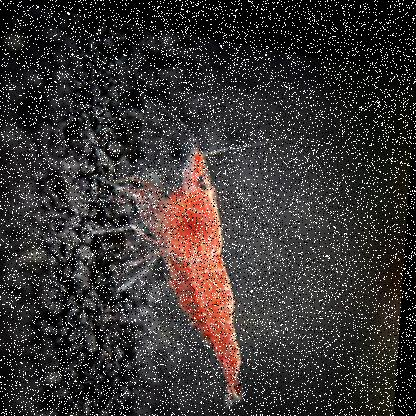shrimp: (97, 126, 263, 406)
